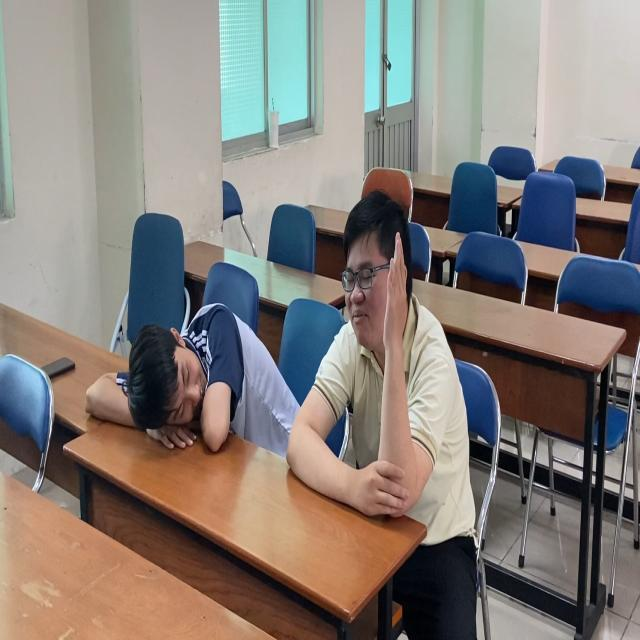raise_hand: (312, 188, 461, 533)
sleep: (86, 303, 287, 466)
